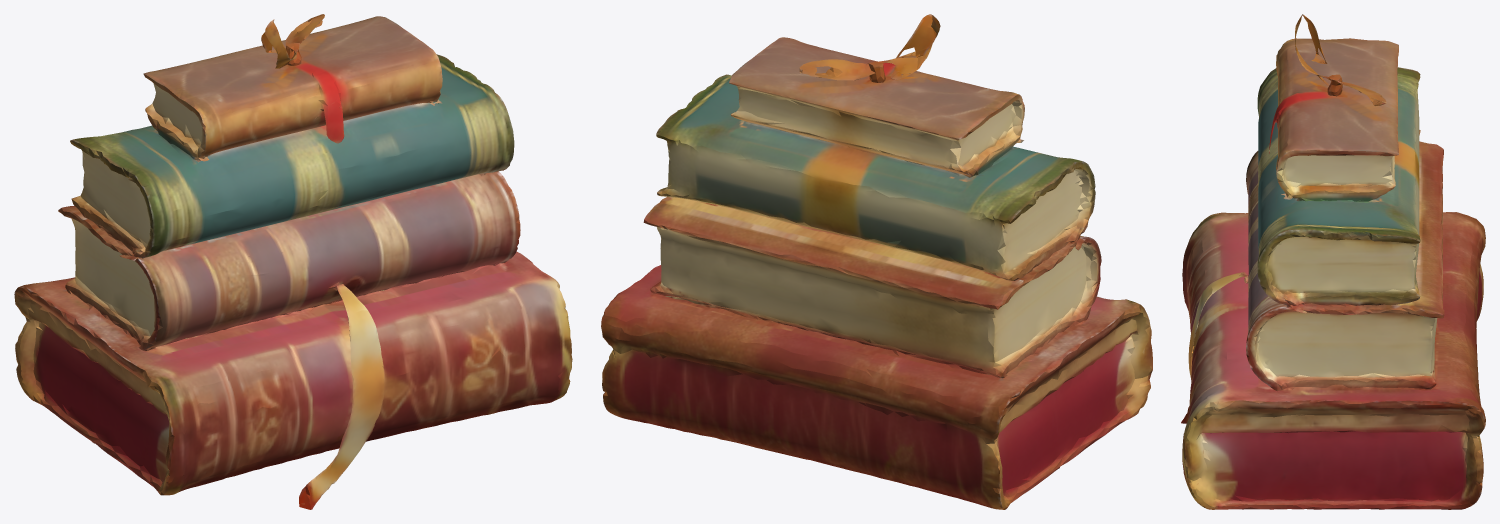
The model's file is enlightenment_books.glb.
The picture shows the model from 3 angles, left to right: view 1: azimuth 30°, elevation 25°; view 2: azimuth 150°, elevation 25°; view 3: azimuth 270°, elevation 25°; orthographic projection. The views are drawn at different scales.
Parts seen in each view (by area): view 1: enlightenment_books; view 2: enlightenment_books; view 3: enlightenment_books.
Part boxes in pixels (x1=…): enlightenment_books: x1=14, y1=14, x2=572, y2=509; enlightenment_books: x1=601, y1=14, x2=1152, y2=509; enlightenment_books: x1=1181, y1=14, x2=1485, y2=509.
Size of the model in its own units: 1.87 by 1.9 by 1.25.
1 material, 1 textured.
